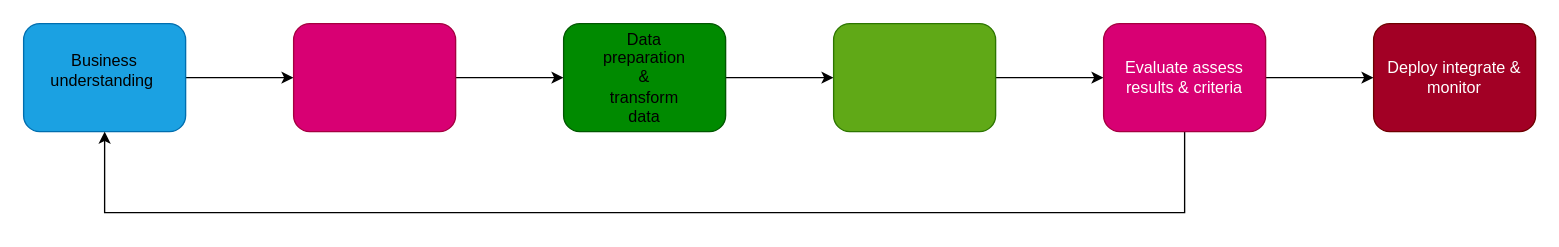
Some shapes in this 1559 by 247 pixel diagram are drawn without their labels. Here are the shapes that lost their labels. From the top down, the centre of each, then its label:
point 374,77: Data understanding
point 914,77: modelling build & tune models
